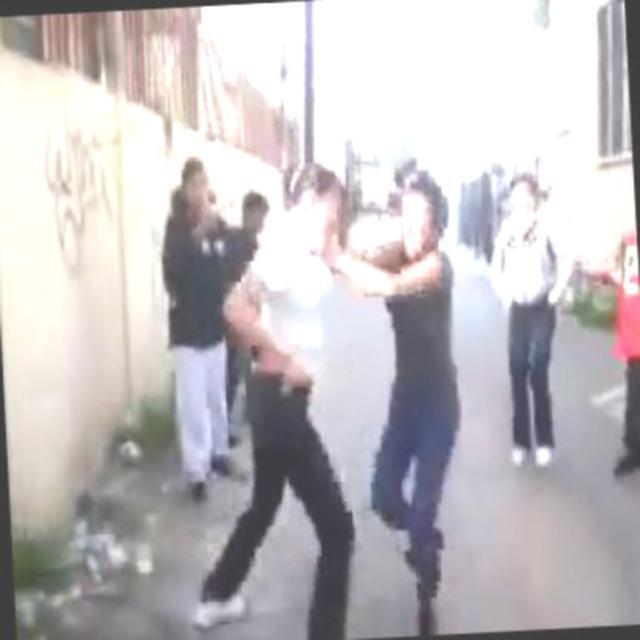fight: (226, 154, 468, 520)
non-fight: (487, 167, 578, 438), (154, 150, 240, 428)
